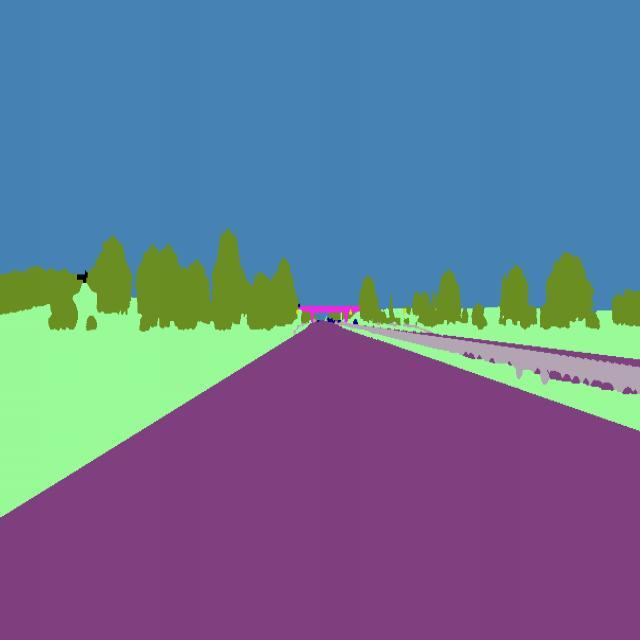safe: (351, 314, 362, 328), (327, 314, 337, 328)
